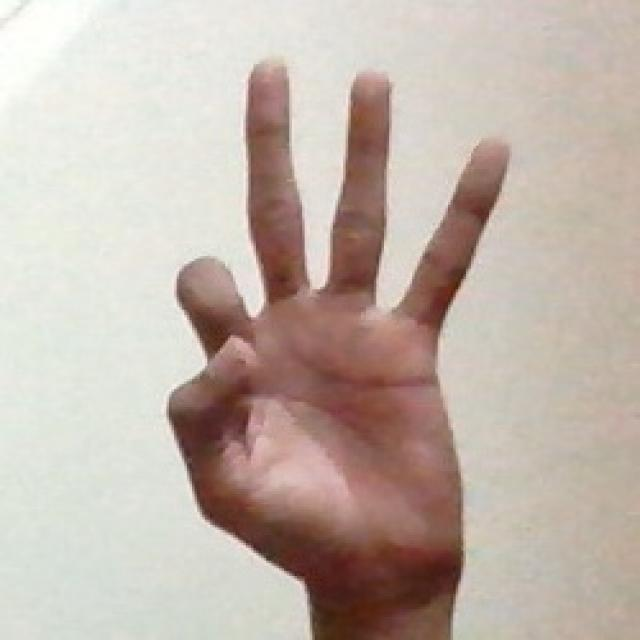Numeric-9: (157, 52, 514, 590)
